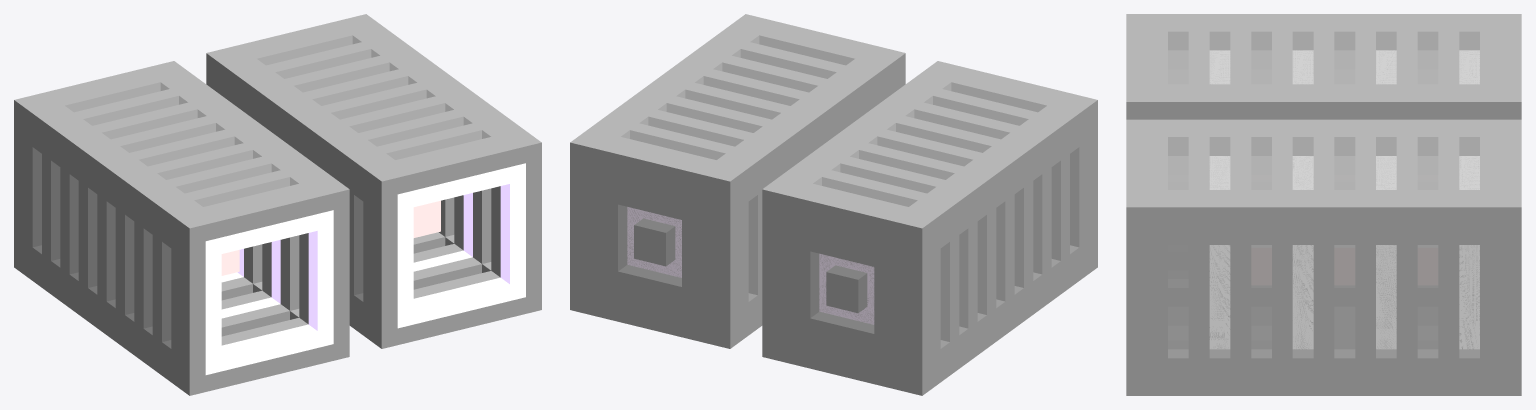
Rendered from metal3head.fbx.
The picture shows the model from 3 angles, left to right: view 1: azimuth 30°, elevation 25°; view 2: azimuth 150°, elevation 25°; view 3: azimuth 270°, elevation 25°; orthographic projection. The views are drawn at different scales.
Parts seen in each view (by area): view 1: metal3.001; view 2: metal3.001; view 3: metal3.001.
Part boxes in pixels (x1,y1,x2,y2): metal3.001: (14, 14, 541, 395); metal3.001: (570, 14, 1097, 395); metal3.001: (1126, 14, 1521, 395).
Bounding box in the file's own units: 220 × 120 × 190.
